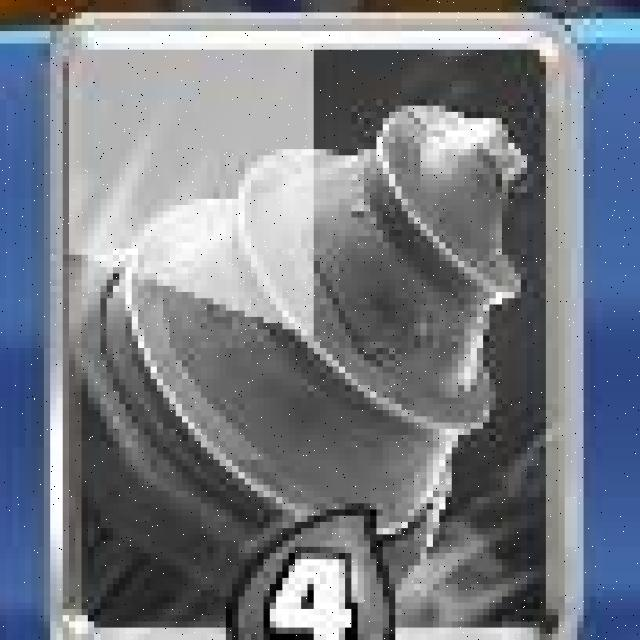Goblin_Drill: (49, 16, 582, 640)
